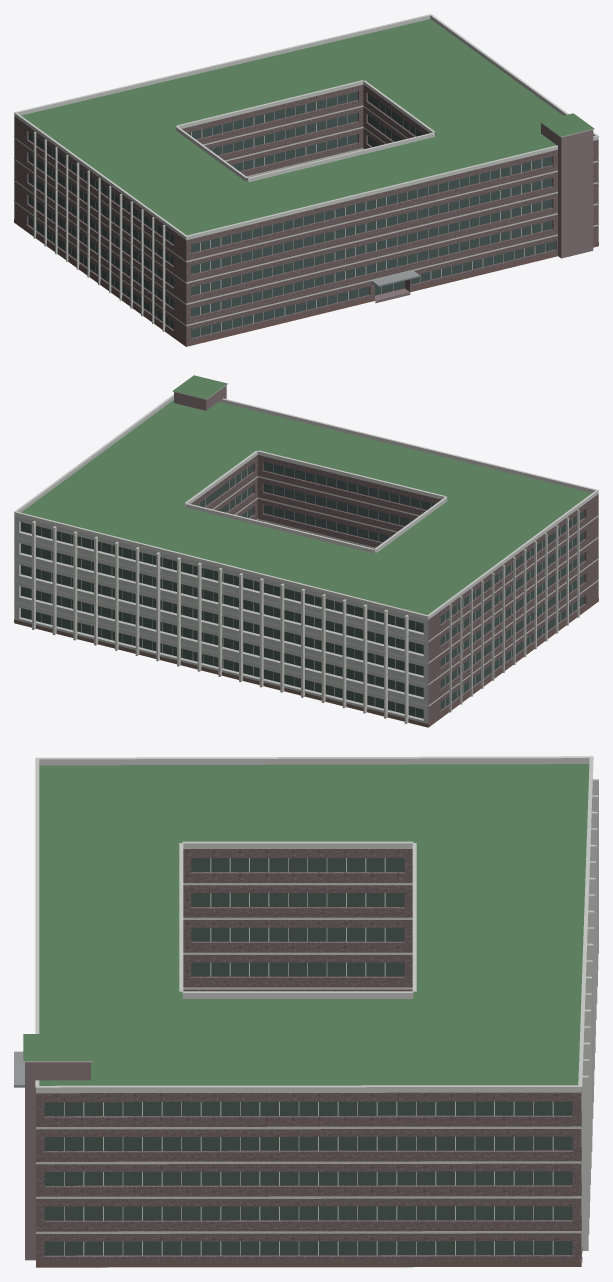
3 views of the same model, one above another, from view 1: azimuth 30°, elevation 25°; view 2: azimuth 150°, elevation 25°; view 3: azimuth 270°, elevation 25° (orthographic). The views are drawn at different scales.
Visible parts, largest first — view 1: engineering__roof, engineering__wall, engineering__glass, engineering__trim, engineering__parapet, engineering__tower, engineering__frame, engineering__base; view 2: engineering__roof, engineering__glass, engineering__trim, engineering__wall2, engineering__wall, engineering__parapet, engineering__frame, engineering__base, engineering__tower; view 3: engineering__roof, engineering__wall, engineering__glass, engineering__trim, engineering__parapet, engineering__frame, engineering__base, engineering__tower.
Boxes of the visible parts, left/top/right/bottom form: engineering__roof: left=21, top=19, right=593, bottom=235; engineering__wall: left=14, top=84, right=598, bottom=346; engineering__glass: left=28, top=91, right=555, bottom=338; engineering__trim: left=14, top=14, right=598, bottom=331; engineering__parapet: left=14, top=15, right=598, bottom=240; engineering__tower: left=541, top=123, right=593, bottom=258; engineering__frame: left=52, top=94, right=545, bottom=335; engineering__base: left=14, top=219, right=598, bottom=346; engineering__roof: left=21, top=375, right=591, bottom=614; engineering__glass: left=21, top=462, right=584, bottom=718; engineering__trim: left=14, top=384, right=598, bottom=723; engineering__wall2: left=14, top=515, right=428, bottom=723; engineering__wall: left=191, top=455, right=598, bottom=727; engineering__parapet: left=14, top=396, right=598, bottom=619; engineering__frame: left=31, top=464, right=572, bottom=716; engineering__base: left=14, top=598, right=598, bottom=727; engineering__tower: left=174, top=385, right=226, bottom=410; engineering__roof: left=23, top=764, right=589, bottom=1267; engineering__wall: left=36, top=849, right=581, bottom=1261; engineering__glass: left=44, top=858, right=572, bottom=1255; engineering__trim: left=23, top=756, right=598, bottom=1250; engineering__parapet: left=36, top=758, right=589, bottom=1093; engineering__frame: left=64, top=858, right=553, bottom=1255; engineering__base: left=36, top=1247, right=582, bottom=1267; engineering__tower: left=25, top=1062, right=90, bottom=1260.
Bounding box in the file's own units: 71.55 × 20.5 × 53.27.
Materials: 12 (1 with a texture image).
